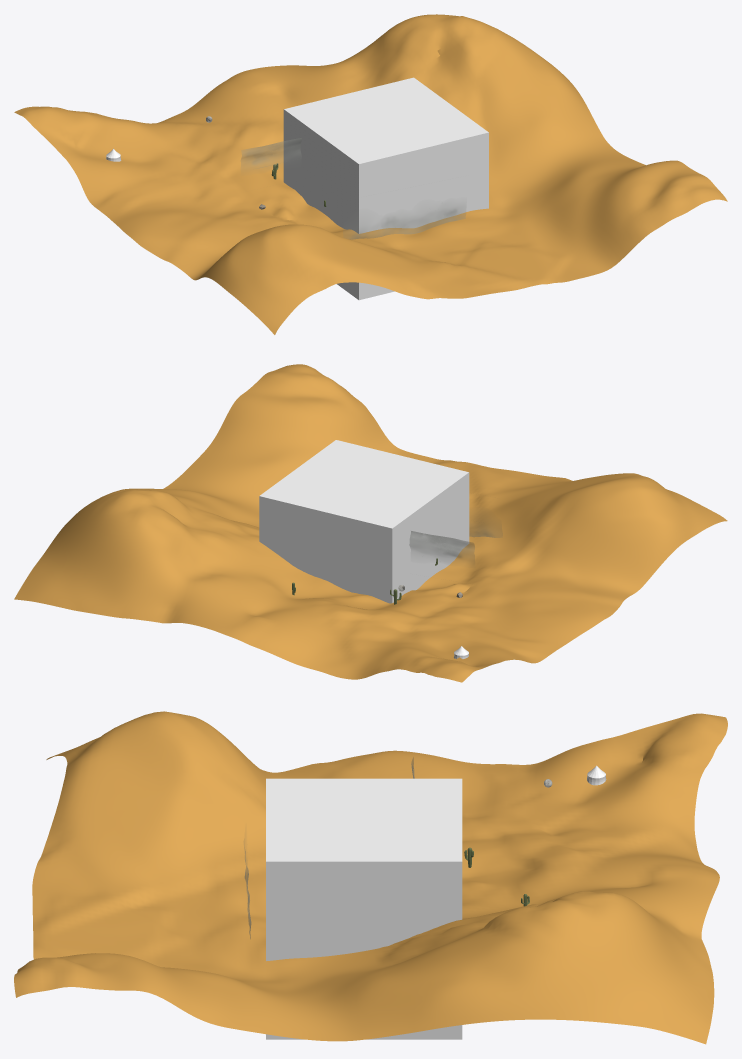
Rendered from Portfolio.glb.
3 views of the same model, one above another, from view 1: azimuth 30°, elevation 25°; view 2: azimuth 150°, elevation 25°; view 3: azimuth 270°, elevation 25° (orthographic). The views are drawn at different scales.
Parts seen in each view (by area): view 1: Plane.009, Cube.025, Plane.010, Plane.011; view 2: Plane.009, Cube.025, Plane.011; view 3: Plane.009, Cube.025.
Boxes of the visible parts, x1,y1,x2,y2 form: Plane.009: (14,14,727,334); Cube.025: (283,77,488,300); Plane.010: (343,204,465,239); Plane.011: (241,138,301,169); Plane.009: (14,364,727,682); Cube.025: (259,440,469,603); Plane.011: (409,531,474,561); Plane.009: (14,711,727,1044); Cube.025: (266,778,462,1039).
Size of the model in its own units: 66.52 by 19.62 by 67.06.
Materials: 17 (3 with a texture image).
